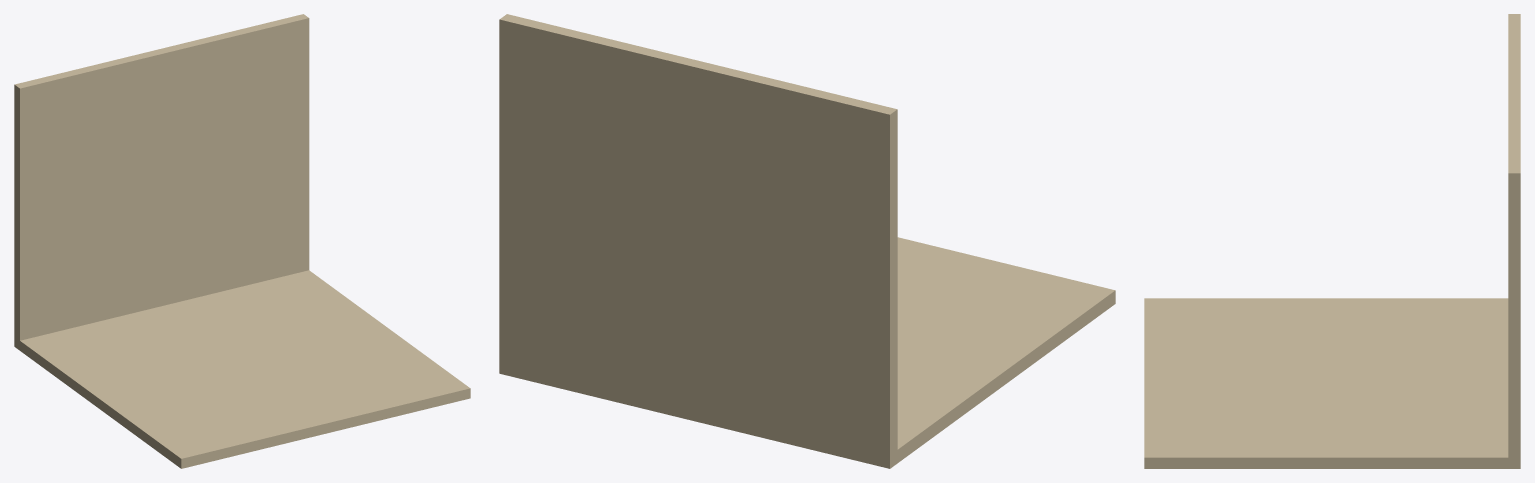
The model's file is library.fbx.
The picture shows the model from 3 angles, left to right: view 1: azimuth 30°, elevation 25°; view 2: azimuth 150°, elevation 25°; view 3: azimuth 270°, elevation 25°; orthographic projection. The views are drawn at different scales.
Parts seen in each view (by area): view 1: Plane.009, Plane.010; view 2: Plane.009, Plane.010; view 3: Plane.010, Plane.009.
Part boxes in pixels (x1=…): Plane.009: x1=14, y1=14, x2=309, y2=340; Plane.010: x1=14, y1=270, x2=470, y2=468; Plane.009: x1=499, y1=14, x2=897, y2=455; Plane.010: x1=499, y1=237, x2=1115, y2=468; Plane.010: x1=1144, y1=298, x2=1520, y2=468; Plane.009: x1=1508, y1=14, x2=1520, y2=457.
Size of the model in its own units: 300 by 260 by 300.
